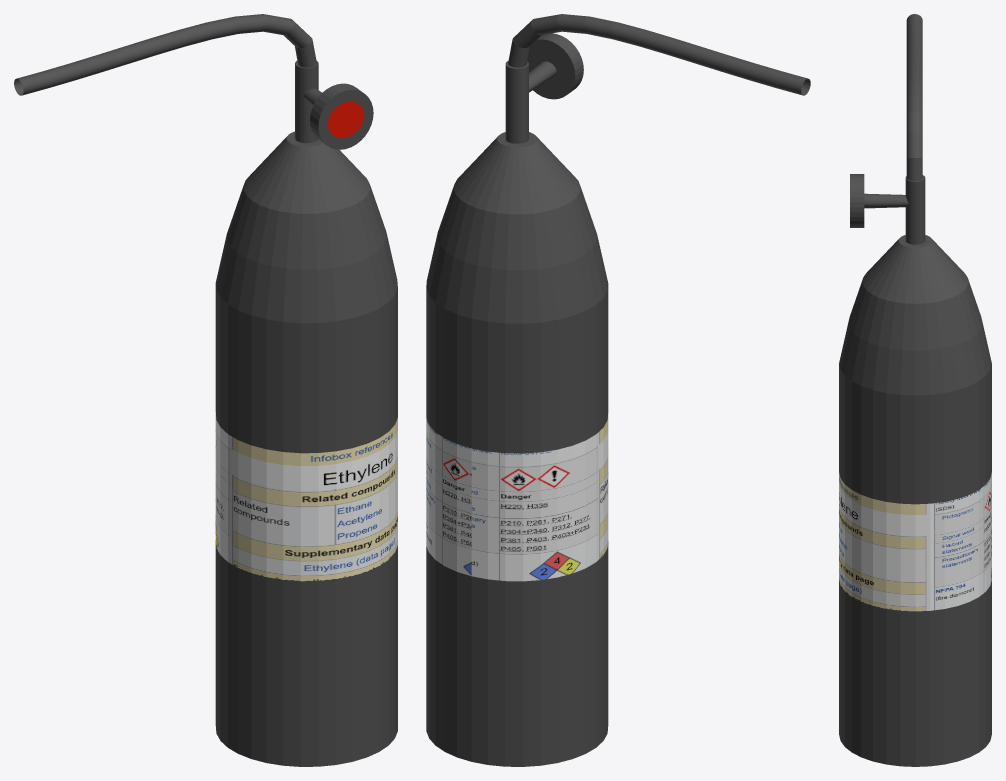
The model's file is PressureCan.glb.
3 views of the same model, side by side, from view 1: azimuth 30°, elevation 25°; view 2: azimuth 150°, elevation 25°; view 3: azimuth 270°, elevation 25° (orthographic). The views are drawn at different scales.
Parts seen in each view (by area): view 1: Druckdose; view 2: Druckdose; view 3: Druckdose.
Boxes of the visible parts, bbox=[...] form: Druckdose: bbox=[14, 14, 397, 766]; Druckdose: bbox=[426, 14, 810, 766]; Druckdose: bbox=[839, 14, 991, 766].
Bounding box in the file's own units: 0.2053 × 0.3892 × 0.0882.
3 materials, 1 textured.
